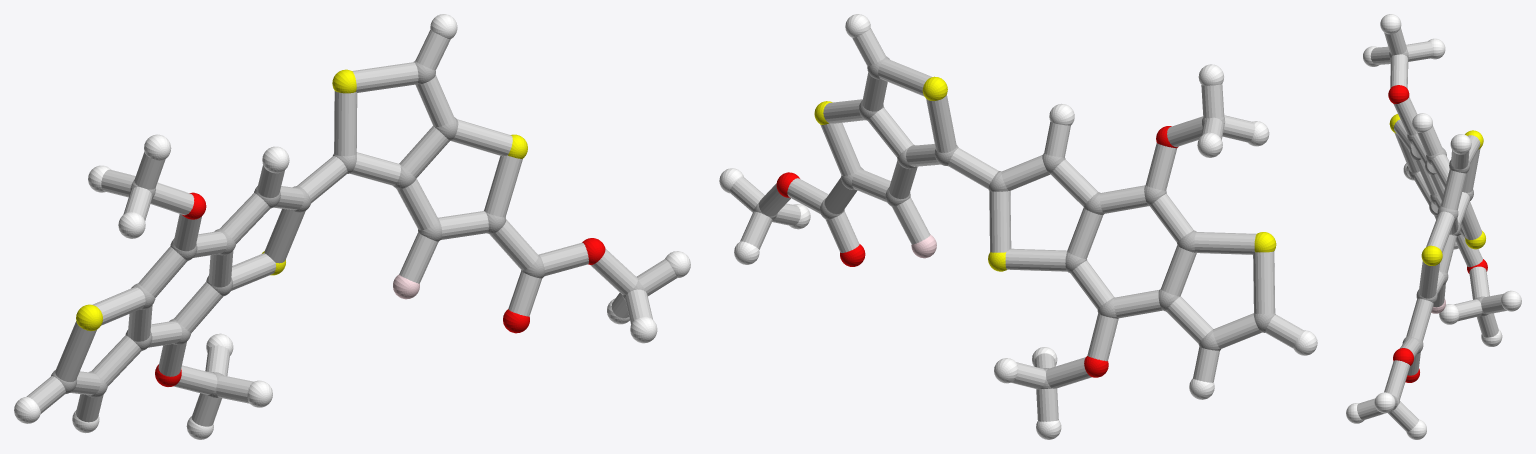
File: color.glb
3 views of the same model, side by side, from view 1: azimuth 30°, elevation 25°; view 2: azimuth 150°, elevation 25°; view 3: azimuth 270°, elevation 25° (orthographic). The views are drawn at different scales.
Visible parts, largest first — view 1: grp15205, grp8689, grp1, grp7241, grp13395; view 2: grp15205, grp8689, grp1, grp7241, grp13395; view 3: grp15205, grp8689, grp1, grp13395, grp7241.
Part boxes in pixels (x1,y1,x2,y2): grp15205: (26, 29, 676, 426); grp8689: (14, 14, 690, 439); grp1: (51, 61, 644, 397); grp7241: (76, 69, 527, 330); grp13395: (155, 192, 605, 386); grp15205: (730, 28, 1303, 421); grp8689: (719, 14, 1317, 439); grp1: (753, 56, 1275, 388); grp7241: (814, 76, 1276, 271); grp13395: (776, 126, 1178, 377); grp15205: (1357, 28, 1506, 431); grp8689: (1346, 14, 1521, 439); grp1: (1388, 48, 1488, 413); grp13395: (1388, 85, 1487, 382); grp7241: (1389, 114, 1485, 265).
Size of the model in its own units: 16.61 by 9.3 by 5.02.
